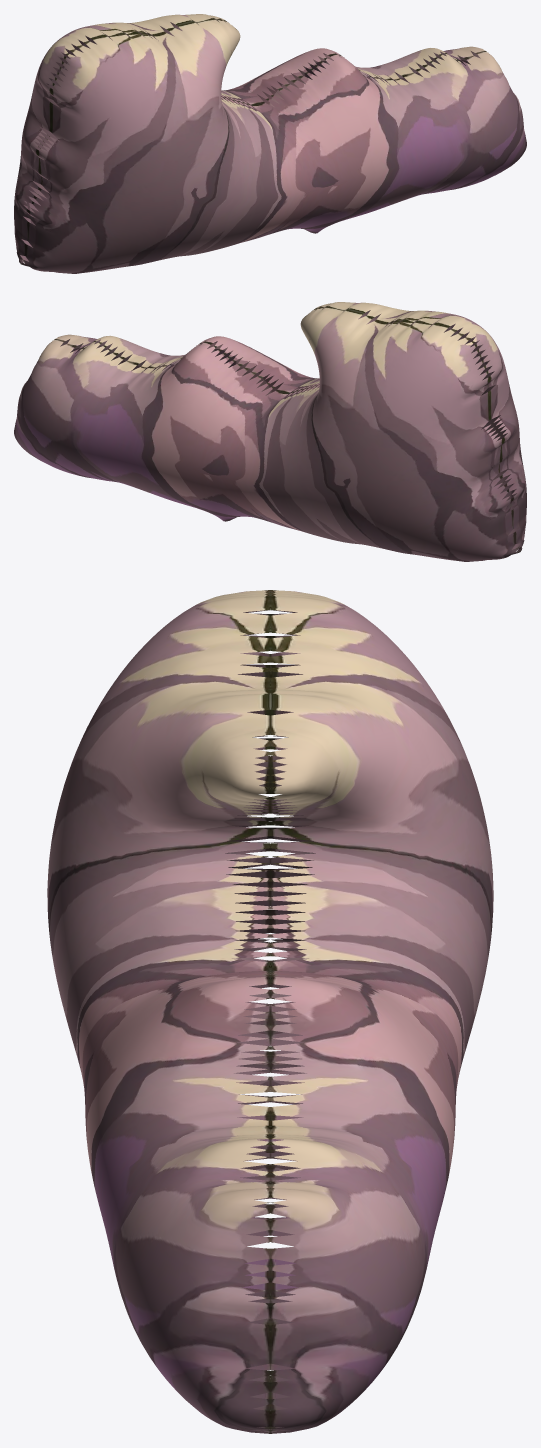
The model's file is mauve_ridge.glb.
The picture shows the model from 3 angles, top to bottom: view 1: azimuth 30°, elevation 25°; view 2: azimuth 150°, elevation 25°; view 3: azimuth 270°, elevation 25°; orthographic projection. The views are drawn at different scales.
Visible parts, largest first — view 1: mauve_ridge; view 2: mauve_ridge; view 3: mauve_ridge.
Boxes of the visible parts, left/top/right/bottom form: mauve_ridge: left=14, top=14, right=526, bottom=273; mauve_ridge: left=14, top=302, right=526, bottom=561; mauve_ridge: left=47, top=590, right=493, bottom=1433.
Size of the model in its own units: 0.9851 by 0.4307 by 0.3813.
1 material, 1 textured.
